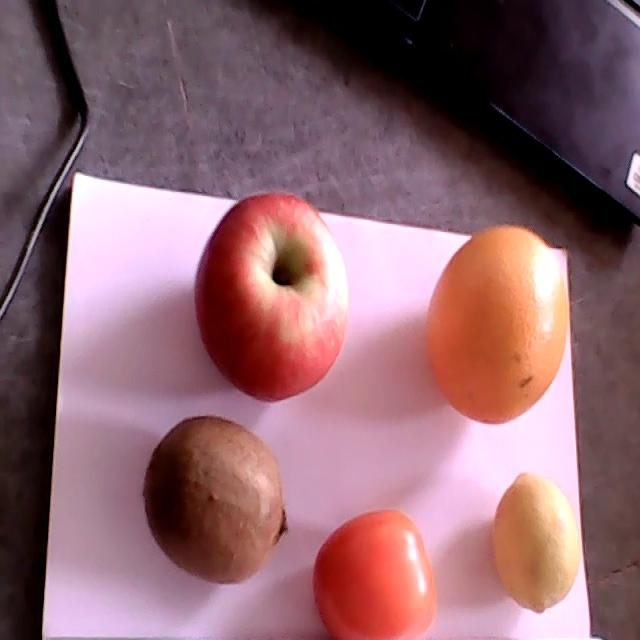apple: (193, 192, 350, 402)
kiwi: (144, 415, 288, 583)
lemon: (494, 472, 580, 615)
orange: (424, 225, 569, 423)
tomato: (313, 510, 437, 639)
